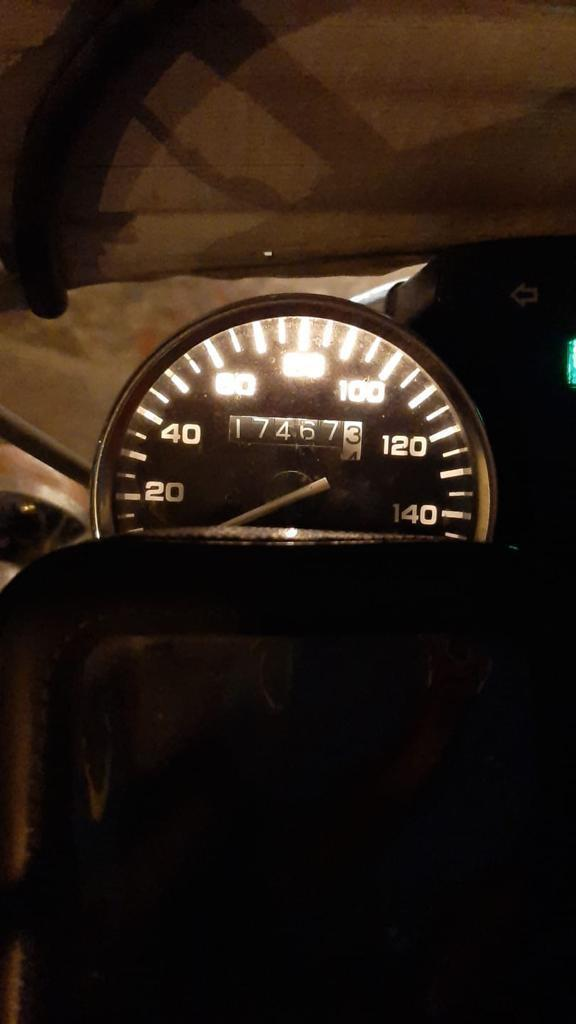1: (232, 415, 243, 440)
3: (345, 423, 363, 447)
4: (275, 419, 292, 441)
6: (297, 418, 316, 444)
7: (250, 414, 270, 440), (322, 416, 339, 442)
odometer: (221, 409, 371, 472)
